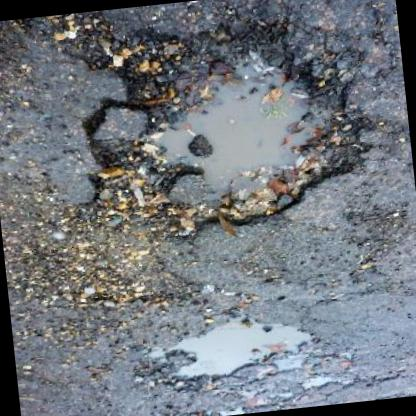pothole: (57, 0, 384, 241), (130, 310, 326, 395)
